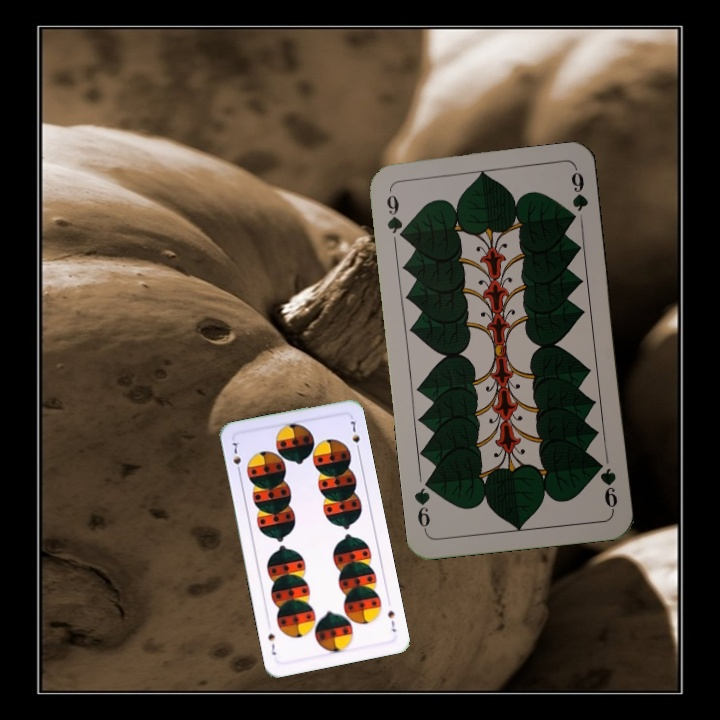G9: (592, 456, 620, 514), (383, 186, 408, 243)
S7: (229, 436, 244, 477), (383, 606, 399, 634)
